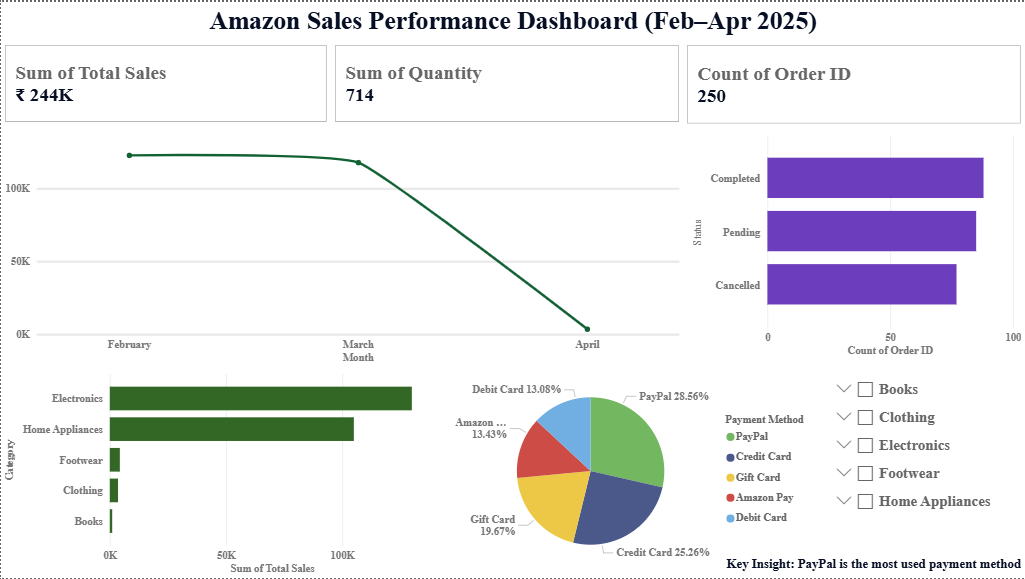

What the dashboard file says about the page in this screenshot:
{"tool":"powerbi","page":{"name":"Page 1","canvas":[1280,720],"ordinal":0},"visuals":[{"type":"cardVisual","fields":{"Data":["Sum(amazon_sales_data 2025.Total Sales)"]},"box":[0,48.8,412.5,106.2],"z":0},{"type":"cardVisual","fields":{"Data":["Count(amazon_sales_data 2025.Order ID)"]},"box":[852.5,48.8,427.5,108.8],"z":1000},{"type":"cardVisual","fields":{"Data":["Sum(amazon_sales_data 2025.Quantity)"]},"box":[412.5,48.8,440,106.2],"z":2000},{"type":"lineChart","fields":{"Category":["amazon_sales_data 2025.Date.Variation.Date Hierarchy.Month"],"Y":["Sum(amazon_sales_data 2025.Total Sales)"]},"box":[0,146.2,852.5,310],"z":3000},{"type":"barChart","fields":{"Category":["amazon_sales_data 2025.Category"],"Y":["Sum(amazon_sales_data 2025.Total Sales)"]},"box":[0,452.5,563.8,267.5],"z":4000},{"type":"pieChart","fields":{"Category":["amazon_sales_data 2025.Payment Method"],"Y":["Sum(amazon_sales_data 2025.Total Sales)"]},"box":[563.8,452.5,467.5,267.5],"z":5000},{"type":"slicer","fields":{"Values":["amazon_sales_data 2025.Category","amazon_sales_data 2025.Payment Method","amazon_sales_data 2025.Status"]},"box":[1031.2,461.2,248.8,186.2],"z":6000},{"type":"textbox","box":[230,0,820,48.9],"z":7000},{"type":"barChart","fields":{"Category":["amazon_sales_data 2025.Status"],"Y":["CountNonNull(amazon_sales_data 2025.Order ID)"]},"box":[860,155,420,292.5],"z":8000},{"type":"textbox","box":[895,687.5,385,32.5],"z":8001}]}

Visuals, with their boxes in screenshot pixels (x1, y1, x2, y2), scaled from the page's 1280x720 canvas onto the 1025x579 screenshot:
cardVisual - Sum(amazon_sales_data 2025.Total Sales): (0, 39, 330, 125)
cardVisual - Count(amazon_sales_data 2025.Order ID): (683, 39, 1024, 127)
cardVisual - Sum(amazon_sales_data 2025.Quantity): (330, 39, 683, 125)
lineChart - amazon_sales_data 2025.Date.Variation.Date Hierarchy.Month x Sum(amazon_sales_data 2025.Total Sales): (0, 118, 683, 367)
barChart - amazon_sales_data 2025.Category x Sum(amazon_sales_data 2025.Total Sales): (0, 364, 451, 578)
pieChart - amazon_sales_data 2025.Payment Method x Sum(amazon_sales_data 2025.Total Sales): (451, 364, 826, 578)
slicer - amazon_sales_data 2025.Category x amazon_sales_data 2025.Payment Method: (826, 371, 1024, 521)
textbox: (184, 0, 841, 39)
barChart - amazon_sales_data 2025.Status x CountNonNull(amazon_sales_data 2025.Order ID): (689, 125, 1024, 360)
textbox: (717, 553, 1024, 578)
